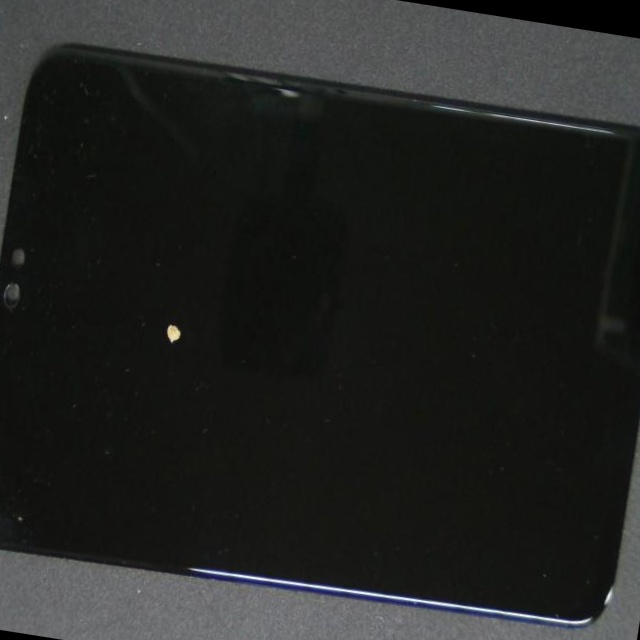stain: (16, 112, 303, 545)
